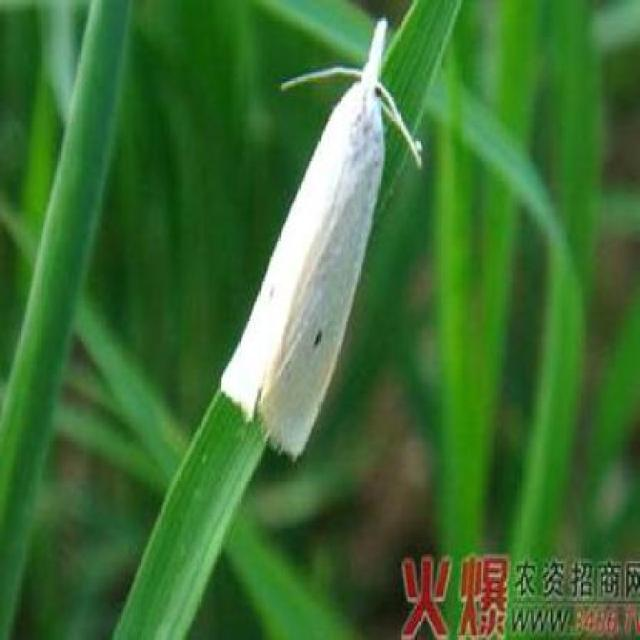stem-borer: (218, 14, 425, 466)
